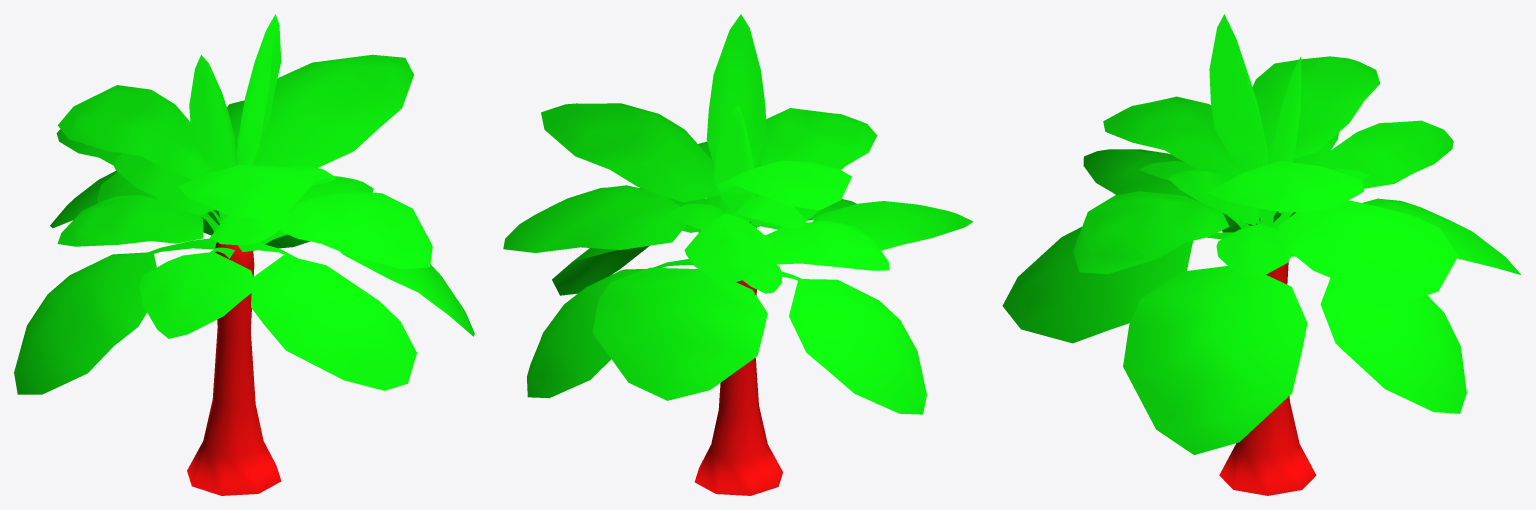
Rendered from Philodendron_Big_OneMesh_2018.FBX.
3 views of the same model, side by side, from view 1: azimuth 30°, elevation 25°; view 2: azimuth 150°, elevation 25°; view 3: azimuth 270°, elevation 25° (orthographic). The views are drawn at different scales.
Parts seen in each view (by area): view 1: PhilodendronBig_LOD0; view 2: PhilodendronBig_LOD0; view 3: PhilodendronBig_LOD0.
Part boxes in pixels (box(x1,y1,x2,y2)): PhilodendronBig_LOD0: box(14, 14, 474, 495); PhilodendronBig_LOD0: box(503, 14, 973, 495); PhilodendronBig_LOD0: box(1002, 14, 1520, 495).
Size of what is drawn, in the model's own units: 77.72 by 85.4 by 85.33.
